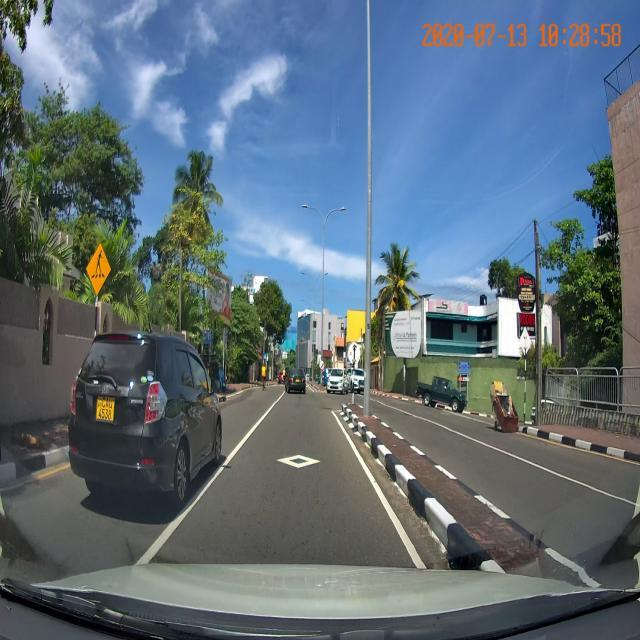diamond: (198, 433, 399, 513)
